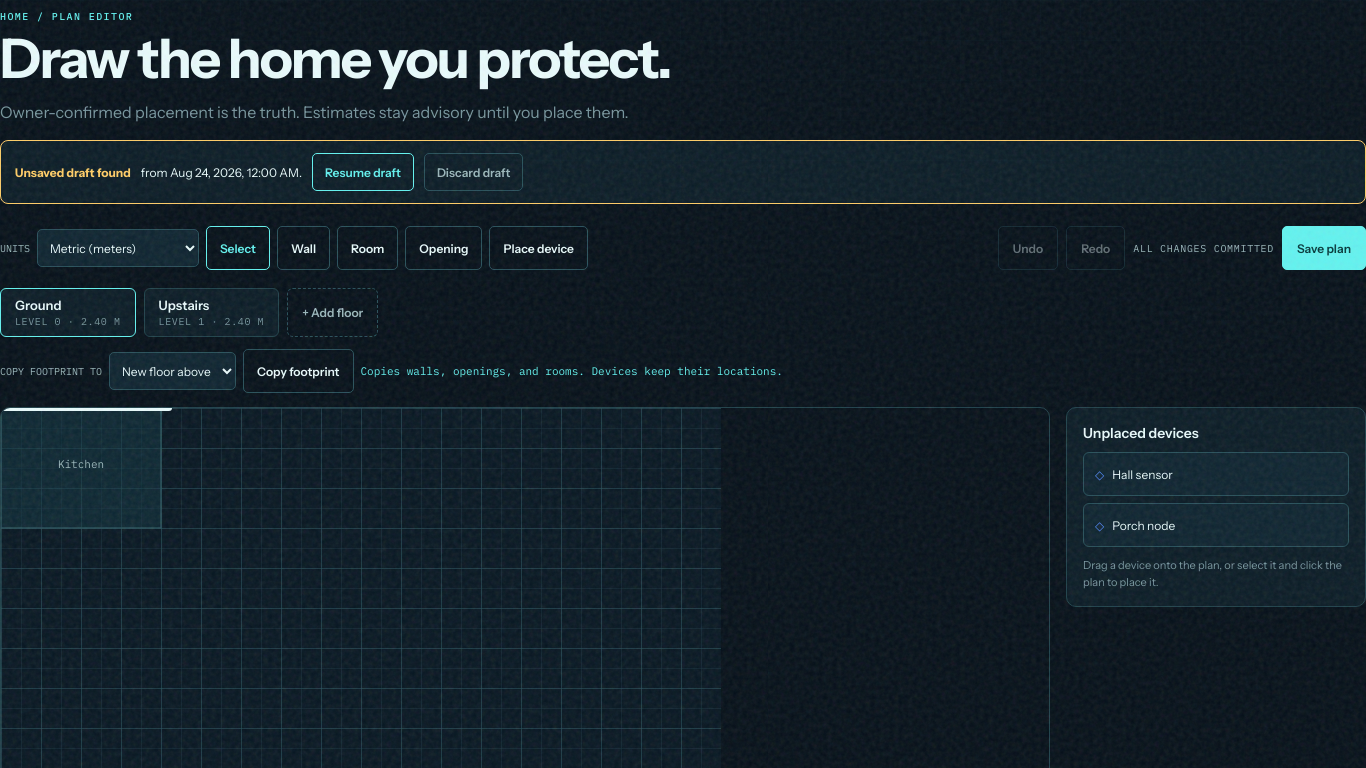
Test: HomeEditorView › offers to resume or discard a server draft on mount
The width and height of the screenshot is (1366, 768).
Check: the element "draft found" shows "Unsaved draft found", box x1=15 y1=165 x2=131 y2=180
Click the button "Resume draft".
click(363, 172)  # box x1=312 y1=153 x2=414 y2=191
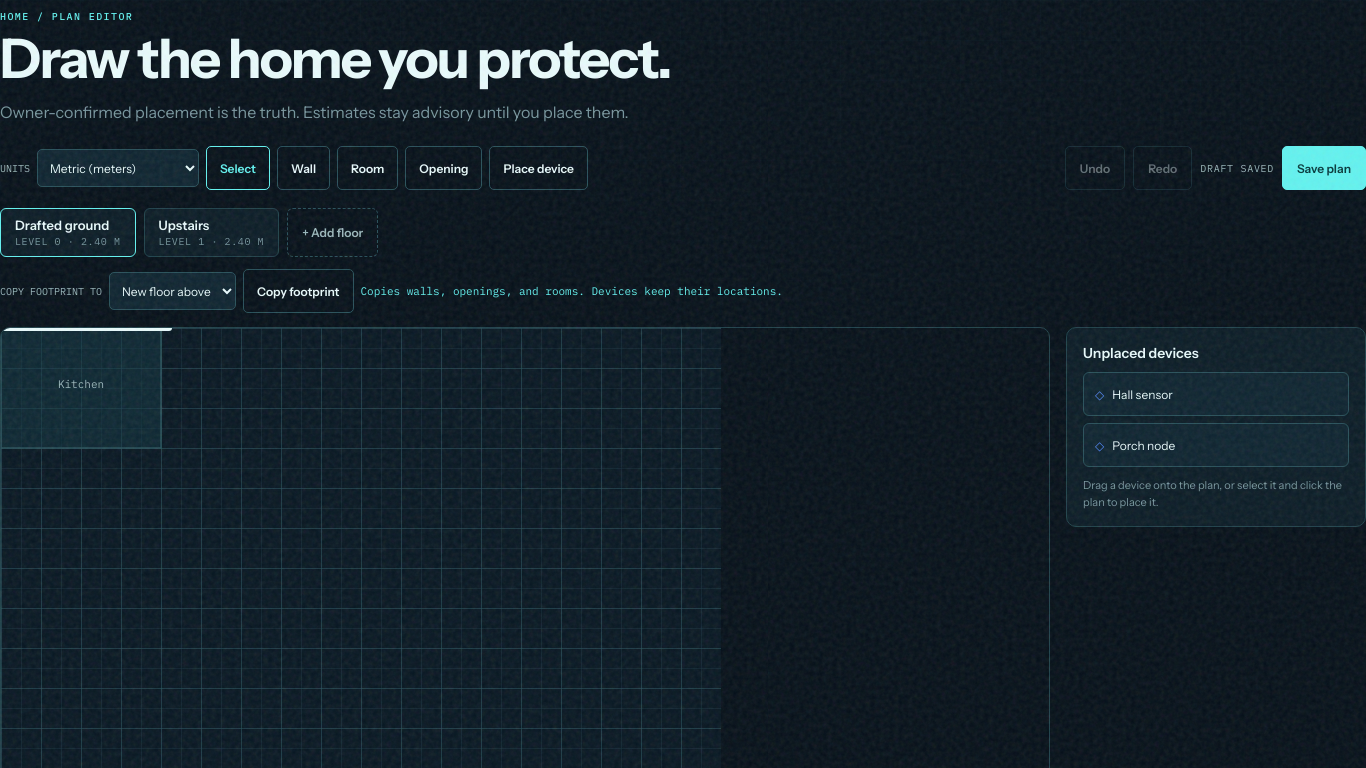
Check: the text "draft found" is gone
Check: the button "Drafted ground level 0 · 2.40 m" is shown, box x1=0 y1=208 x2=136 y2=257
